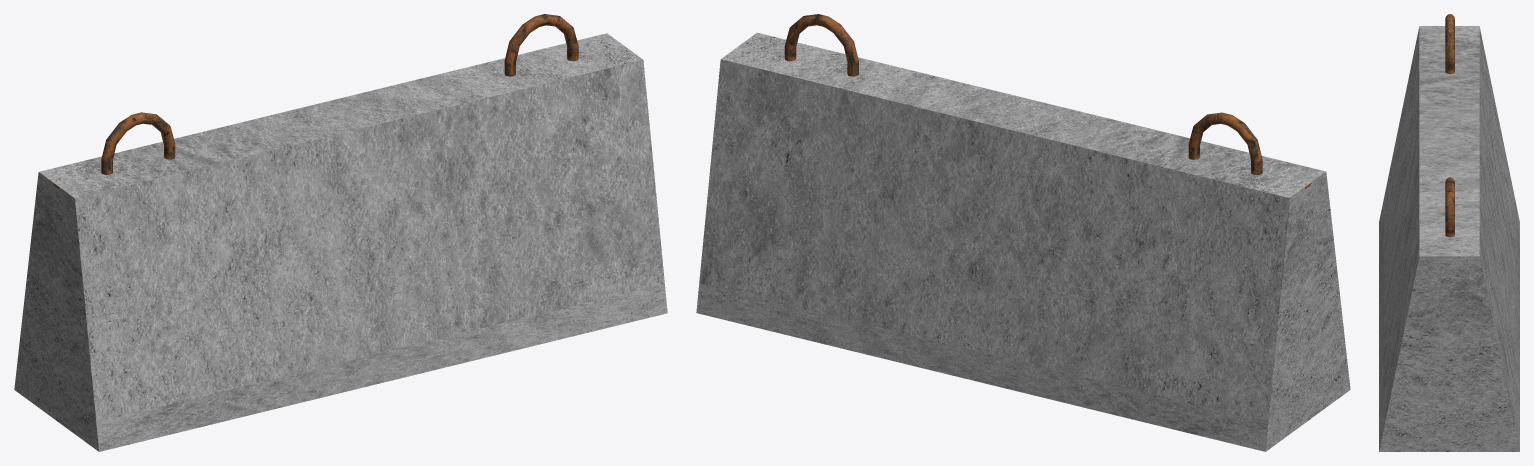
File: concrete_wall.fbx
The picture shows the model from 3 angles, left to right: view 1: azimuth 30°, elevation 25°; view 2: azimuth 150°, elevation 25°; view 3: azimuth 270°, elevation 25°; orthographic projection. The views are drawn at different scales.
Parts seen in each view (by area): view 1: Cube.003; view 2: Cube.003; view 3: Cube.003.
Boxes of the visible parts, x1,y1,x2,y2 form: Cube.003: [14, 14, 667, 451]; Cube.003: [696, 14, 1350, 451]; Cube.003: [1379, 14, 1519, 451].
Bounding box in the file's own units: 86.97 × 41.91 × 22.47.
Materials: 1 (1 with a texture image).
